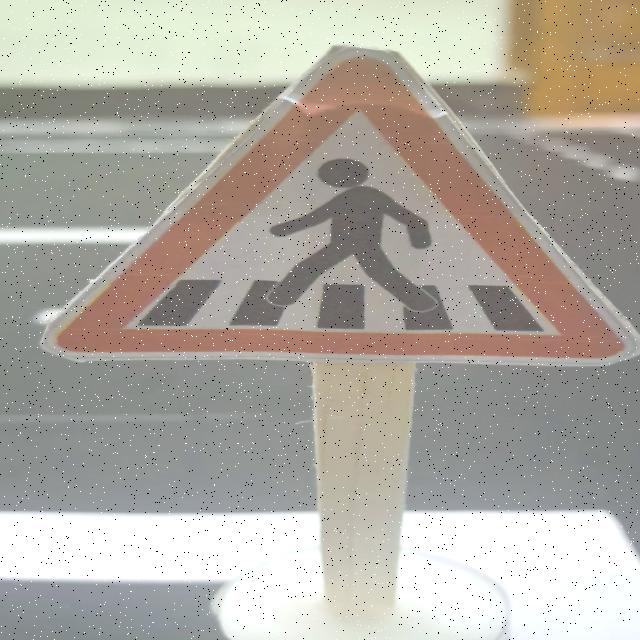Rambu Penyebrangan: (48, 47, 640, 367)
